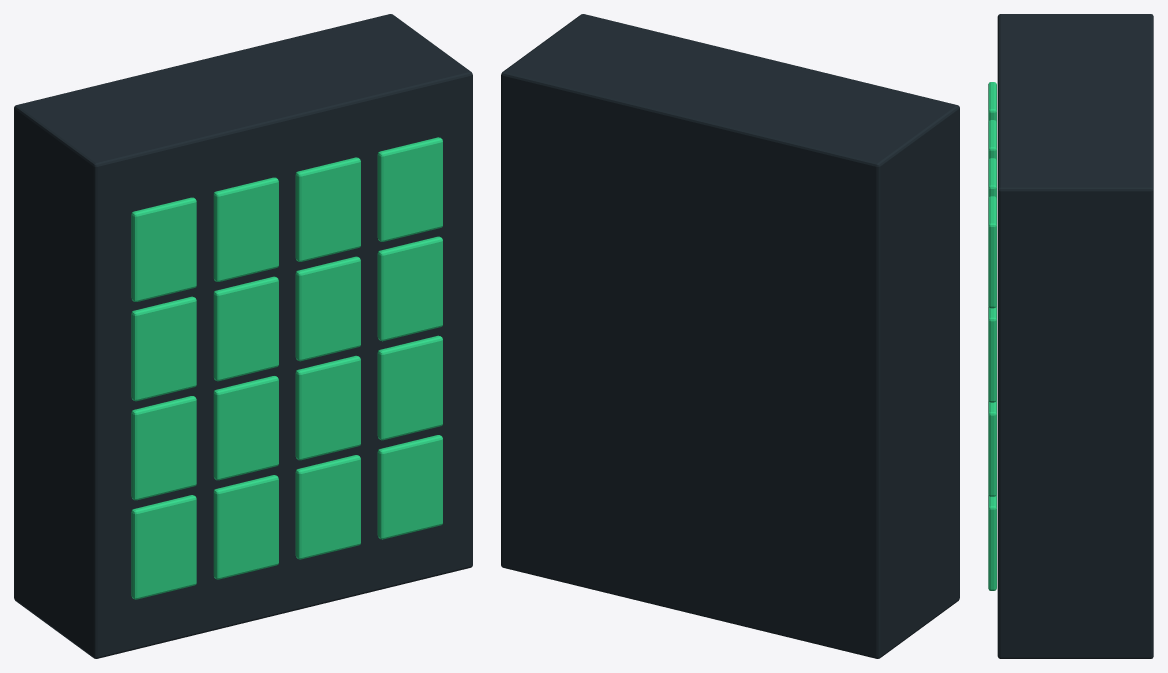
File: CC_S16_P2_Expansion_Digital_CodeCardRack_LOD0.fbx
The picture shows the model from 3 angles, left to right: view 1: azimuth 30°, elevation 25°; view 2: azimuth 150°, elevation 25°; view 3: azimuth 270°, elevation 25°; orthographic projection. The views are drawn at different scales.
Visible parts, largest first — view 1: CC_S16_P2_Expansion_Digital_CodeCardRack_LOD0_Frame, CC_S16_P2_Expansion_Digital_CodeCardRack_LOD0; view 2: CC_S16_P2_Expansion_Digital_CodeCardRack_LOD0_Frame; view 3: CC_S16_P2_Expansion_Digital_CodeCardRack_LOD0_Frame, CC_S16_P2_Expansion_Digital_CodeCardRack_LOD0.
Boxes of the visible parts, x1,y1,x2,y2 form: CC_S16_P2_Expansion_Digital_CodeCardRack_LOD0_Frame: (14,14,472,658); CC_S16_P2_Expansion_Digital_CodeCardRack_LOD0: (131,137,442,599); CC_S16_P2_Expansion_Digital_CodeCardRack_LOD0_Frame: (501,14,959,658); CC_S16_P2_Expansion_Digital_CodeCardRack_LOD0_Frame: (997,14,1153,658); CC_S16_P2_Expansion_Digital_CodeCardRack_LOD0: (988,82,996,590).
Size of what is drawn, in the model's own units: 1.2 by 1.5 by 0.4775.
